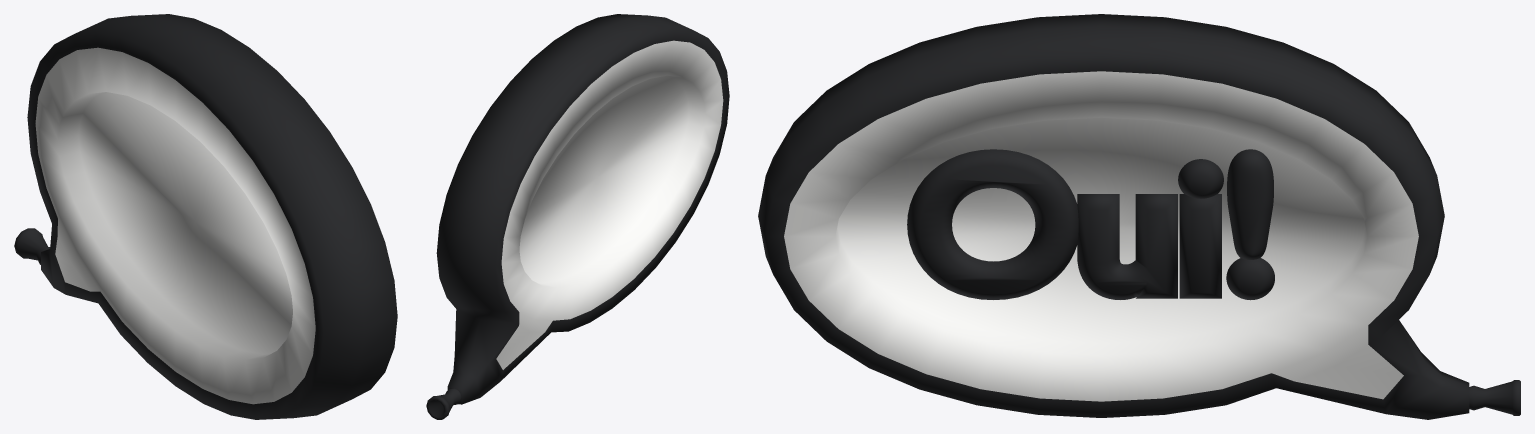
File: BalloonOui.fbx
3 renders of one model, left to right at view 1: azimuth 30°, elevation 25°; view 2: azimuth 150°, elevation 25°; view 3: azimuth 270°, elevation 25°, orthographic. The views are drawn at different scales.
Parts seen in each view (by area): view 1: Circle.002; view 2: Circle.002; view 3: Circle.002.
Boxes of the visible parts, x1,y1,x2,y2 form: Circle.002: (14,14,397,419); Circle.002: (426,14,729,419); Circle.002: (758,14,1520,419).
Bounding box in the file's own units: 454 × 255 × 57.54.
